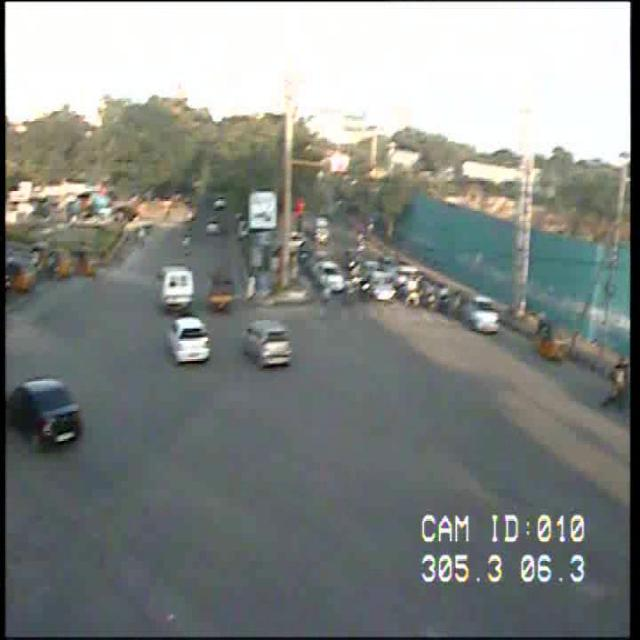noaccident: (21, 187, 556, 455)
